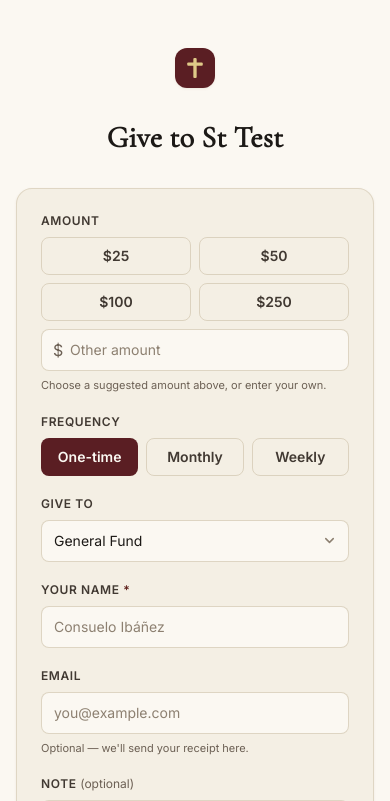
a gift is not received until the server says it was › F. a failed submission never becomes a recorded gift
Expected: the number field with placeholder "Other amount" is shown, [41,329,349,371]
Type "Test Donor" into the field with placeholder "Consuelo Ibáñez" at (195, 626), box [41,606,349,648]
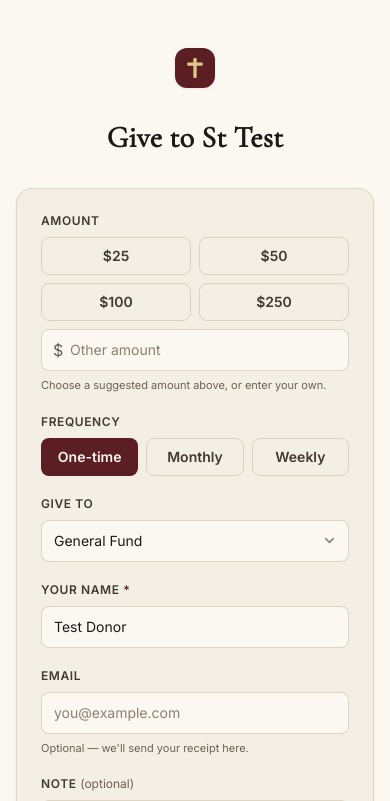
Type "25" into the number field with placeholder "Other amount" at (195, 350), box [41,329,349,371]
(page scrolled)
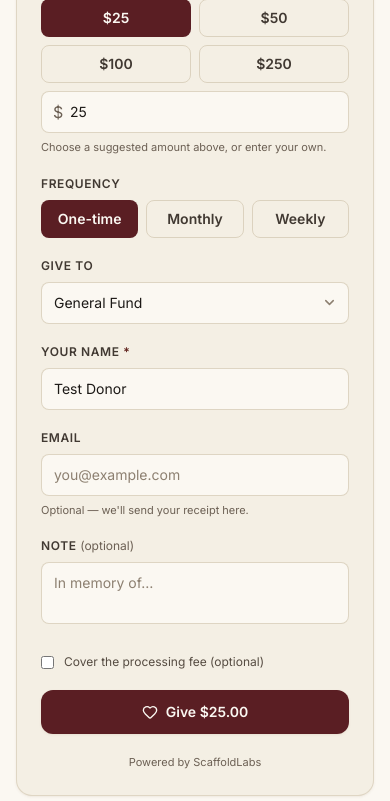
Click the button "Give $25.00" at (195, 712), box [41,690,349,734]
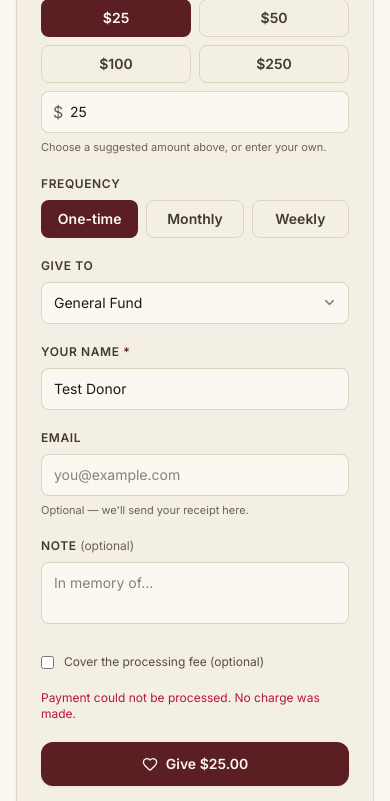
Expected: the text "Payment could not be processed. No charge was made." is shown, [41,690,349,722]
